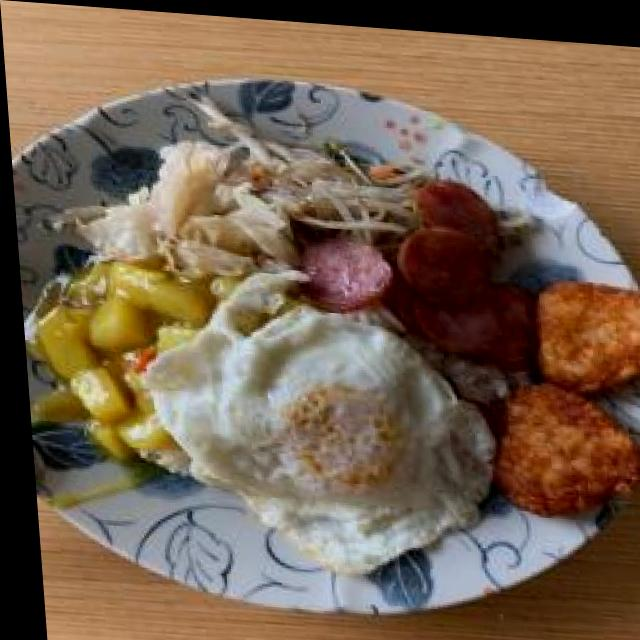chinese_cabbage: (62, 131, 276, 283)
chinese_sausage: (289, 163, 532, 355)
curry: (20, 255, 214, 464)
fried_eggs: (141, 289, 501, 587)
mung_bean_sprouts: (212, 130, 410, 228)
triangle_hash_brown: (471, 267, 640, 514)
